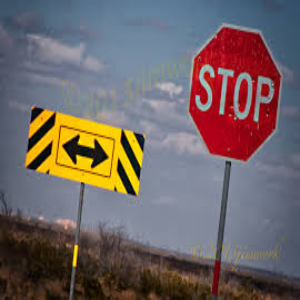STOP_SIGN: (187, 22, 283, 164)
